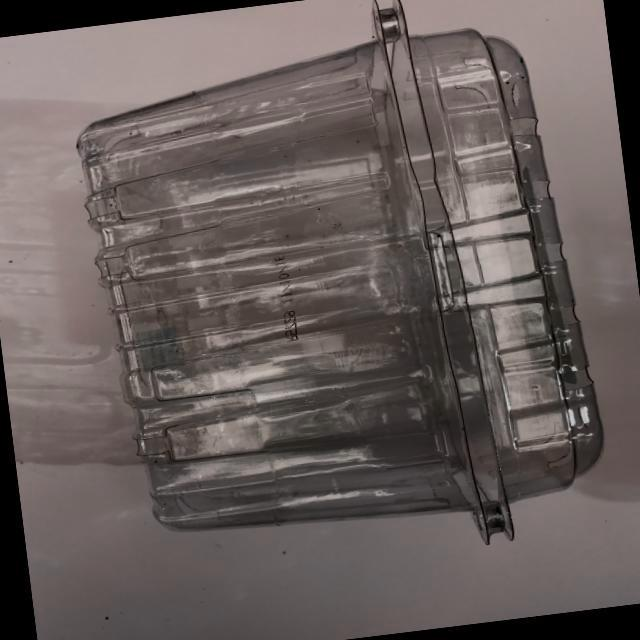plastic: (52, 0, 630, 600)
